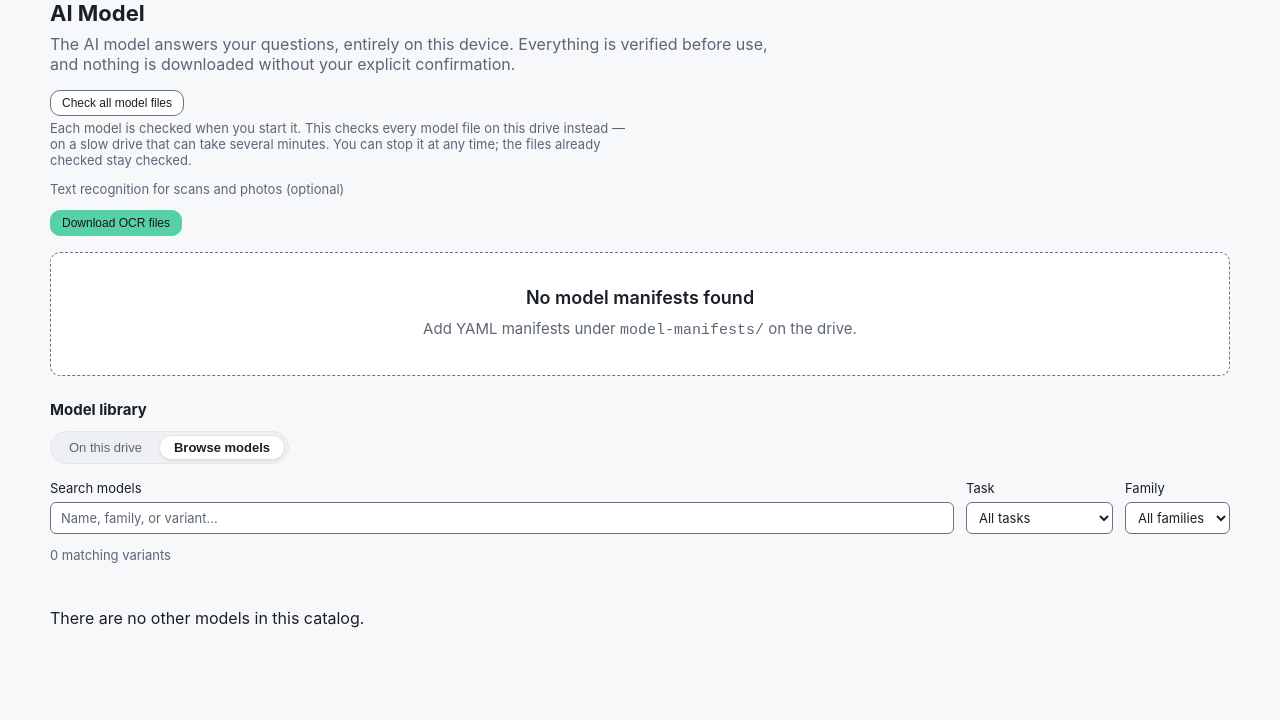
Scenario: OcrInstall — AI Model screen row (#410) › 12: a missing language shows the quiet row and opens the dialog
This screenshot has width=1280, height=720.
Expected: the text "Text recognition for scans and photos (optional)" is shown, [50,181,344,197]
Click the button "Download OCR files": (116, 223) [50,210,182,236]
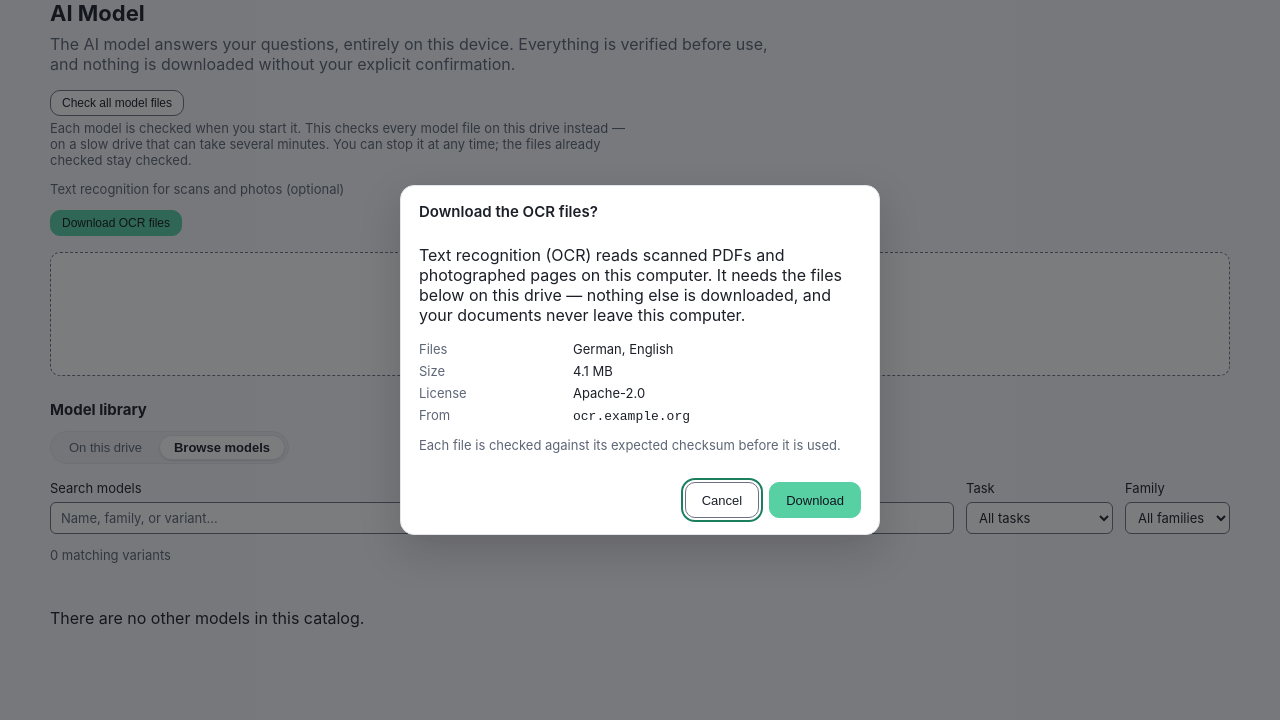
Result: the dialog is shown at [400,185,880,535]
